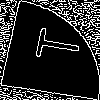T: (24, 25, 83, 64)
